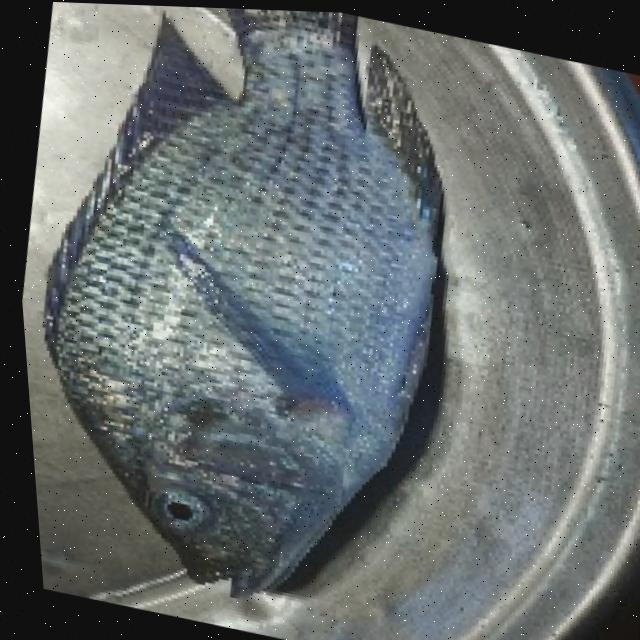Fresh: (0, 0, 541, 640)
